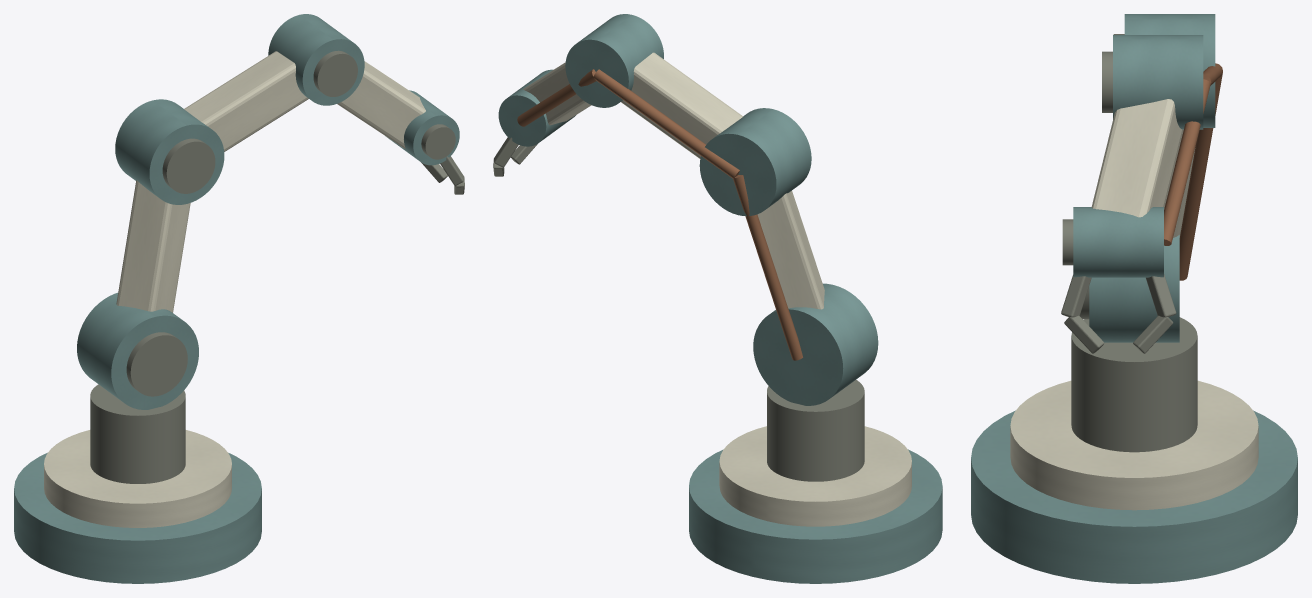
The model's file is Mechanical_Arm.glb.
3 renders of one model, left to right at view 1: azimuth 30°, elevation 25°; view 2: azimuth 150°, elevation 25°; view 3: azimuth 270°, elevation 25°, orthographic. The views are drawn at different scales.
Parts seen in each view (by area): view 1: Mechanical_Arm; view 2: Mechanical_Arm; view 3: Mechanical_Arm.
Part boxes in pixels (bbox=[...]): Mechanical_Arm: bbox=[14, 14, 464, 583]; Mechanical_Arm: bbox=[493, 14, 942, 583]; Mechanical_Arm: bbox=[971, 14, 1297, 583].
Size of the model in its own units: 3.24 by 3.34 by 1.66.
Materials: 4 (3 with a texture image).
